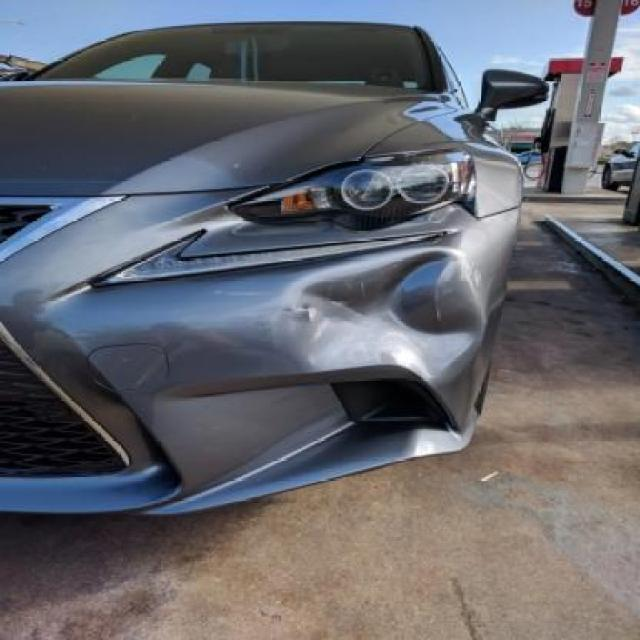minor: (298, 246, 486, 385)
